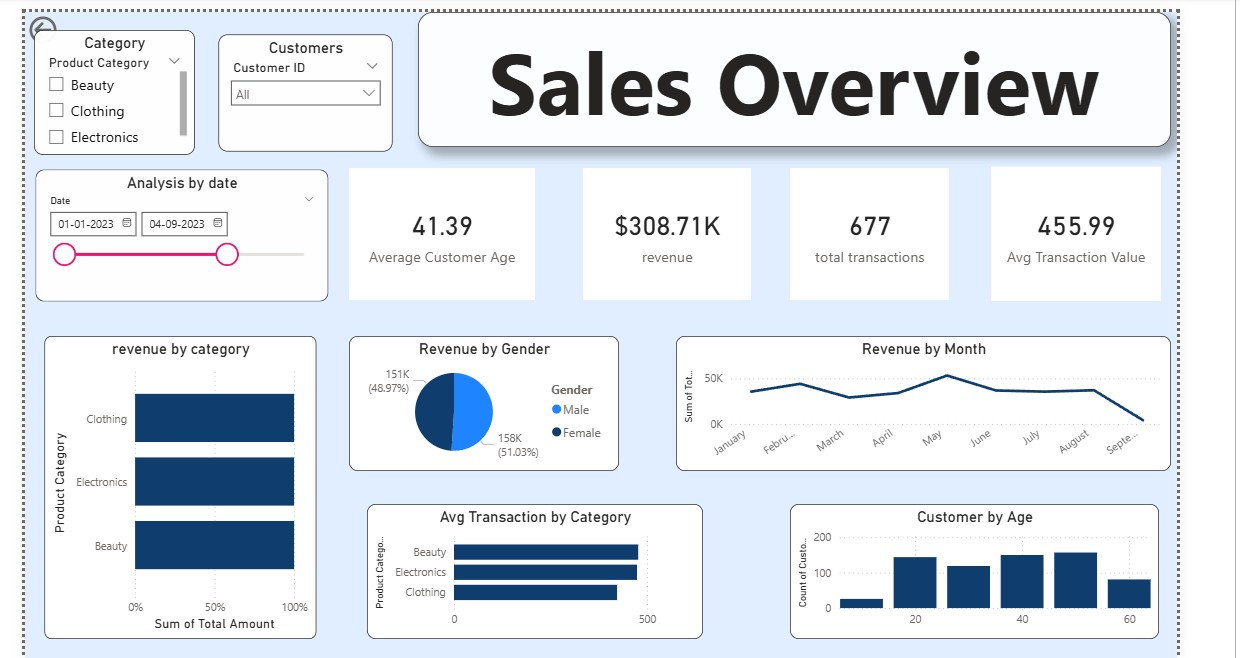

Layout of this report page (visuals, bound fields, positions):
{"tool":"powerbi","page":{"name":"Page 1","canvas":[1280,720],"ordinal":0},"visuals":[{"type":"actionButton","box":[0,0,100,40],"z":0},{"type":"textbox","box":[436.7,0,836.7,150],"z":1000},{"type":"hundredPercentStackedBarChart","title":"revenue by category","fields":{"Category":["dimProduct.Product Category"],"Y":["Sum(Sales.Total Amount)"]},"box":[21.7,360,301.7,336.7],"z":2000},{"type":"pieChart","title":"Revenue by Gender","fields":{"Category":["dimcustomer.Gender"],"Y":["Sum(Sales.Total Amount)"]},"box":[360,360,300,150],"z":3000},{"type":"clusteredBarChart","title":"Avg Transaction by Category","fields":{"Category":["dimProduct.Product Category"],"Y":["Cost.Avg Transaction Value"]},"box":[380,546.7,373.3,150],"z":5000},{"type":"card","fields":{"Values":["Cost.revenue"]},"box":[620,173.3,186.7,146.7],"z":6000},{"type":"card","fields":{"Values":["Cost.total transactions"]},"box":[850,173.3,176.7,146.7],"z":7000},{"type":"card","fields":{"Values":["Cost.Avg Transaction Value"]},"box":[1073.4,172,189,149.3],"z":8000},{"type":"card","fields":{"Values":["Cost.Average Customer Age"]},"box":[360,173.3,206.7,146.7],"z":9000},{"type":"lineChart","title":"Revenue by Month","fields":{"Category":["Sales.Date.Variation.Date Hierarchy.Year","Sales.Date.Variation.Date Hierarchy.Quarter","Sales.Date.Variation.Date Hierarchy.Month","Sales.Date.Variation.Date Hierarchy.Day"],"Y":["Sum(Sales.Total Amount)"]},"box":[723.3,360,550,150],"z":10000},{"type":"columnChart","title":"Customer by Age","fields":{"Category":["dimcustomer.Age group"],"Y":["CountNonNull(Sales.Customer ID)"]},"box":[850,546.7,410,150],"z":11000},{"type":"slicer","title":"Analysis by date","fields":{"Values":["Sales.Date"]},"box":[11.7,175,325,146.7],"z":11001},{"type":"slicer","title":"Category","fields":{"Values":["dimProduct.Product Category"]},"box":[10,20,178.3,138.3],"z":11002},{"type":"slicer","title":"Customers","fields":{"Values":["Sales.Customer ID"]},"box":[215,25,193.3,130],"z":11003}]}

Visuals, with their boxes on the page's 1280x720 design canvas (x1, y1, x2, y2). These are canvas units, not pixel positions in the 1240x658 screenshot, which may show the page scaled, cropped or inside an application window:
actionButton: x1=0 y1=0 x2=100 y2=40
textbox: x1=437 y1=0 x2=1273 y2=150
"revenue by category" hundredPercentStackedBarChart: x1=22 y1=360 x2=323 y2=697
"Revenue by Gender" pieChart: x1=360 y1=360 x2=660 y2=510
"Avg Transaction by Category" clusteredBarChart: x1=380 y1=547 x2=753 y2=697
card - Cost.revenue: x1=620 y1=173 x2=807 y2=320
card - Cost.total transactions: x1=850 y1=173 x2=1027 y2=320
card - Cost.Avg Transaction Value: x1=1073 y1=172 x2=1262 y2=321
card - Cost.Average Customer Age: x1=360 y1=173 x2=567 y2=320
"Revenue by Month" lineChart: x1=723 y1=360 x2=1273 y2=510
"Customer by Age" columnChart: x1=850 y1=547 x2=1260 y2=697
"Analysis by date" slicer: x1=12 y1=175 x2=337 y2=322
"Category" slicer: x1=10 y1=20 x2=188 y2=158
"Customers" slicer: x1=215 y1=25 x2=408 y2=155
